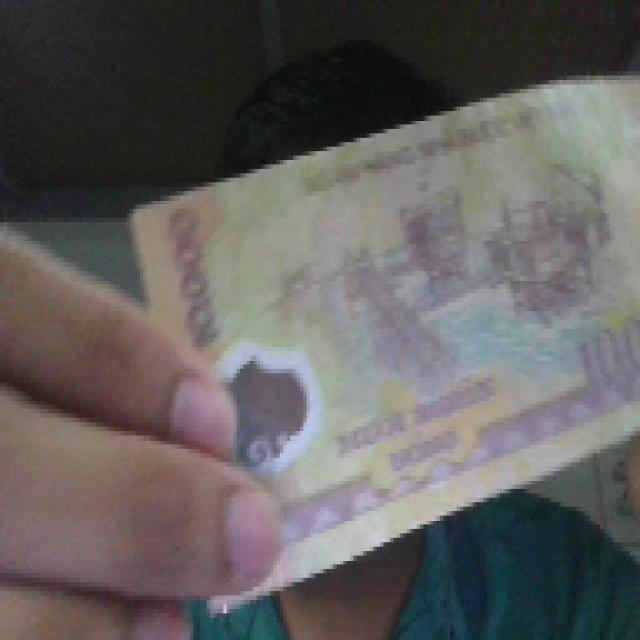10 000 VND: (123, 67, 637, 613)
